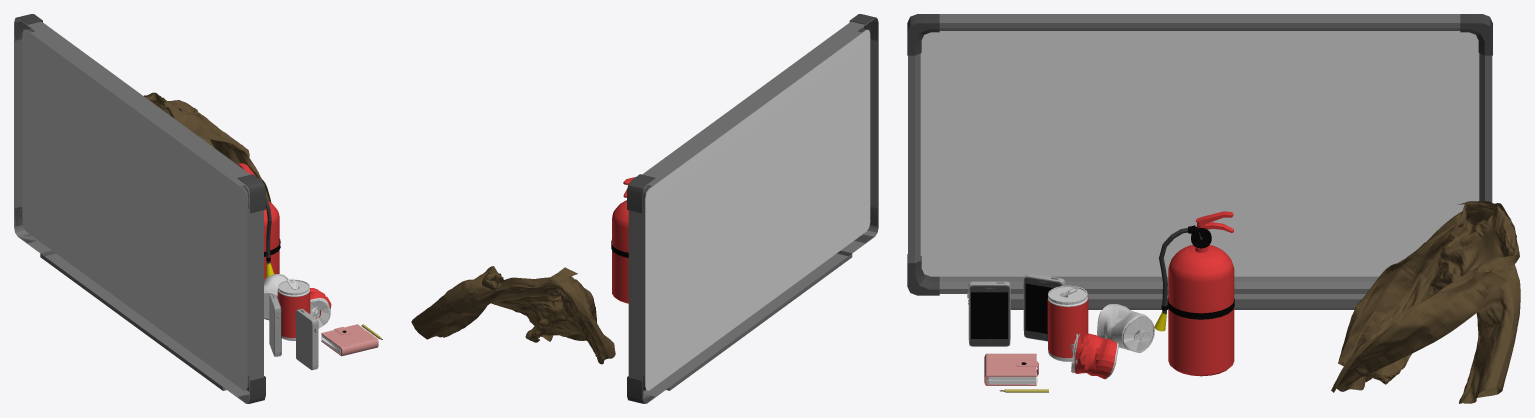
3 views of the same model, side by side, from view 1: azimuth 30°, elevation 25°; view 2: azimuth 150°, elevation 25°; view 3: azimuth 270°, elevation 25° (orthographic). The views are drawn at different scales.
Parts seen in each view (by area): view 1: BOARD, cloth1, polySurface35, polySurface25, polySurface17, polySurface38, phone, polySurface39, polySurface37, polySurface40; view 2: BOARD, cloth1, polySurface17; view 3: BOARD, cloth1, polySurface17, polySurface25, polySurface39, polySurface38, phone, polySurface35, polySurface44, polySurface37.
Part boxes in pixels (x1,y1,x2,y2): BOARD: (14,14,265,403); cloth1: (144,92,271,202); polySurface35: (321,324,378,356); polySurface25: (295,308,318,370); polySurface17: (238,163,280,279); polySurface38: (277,289,310,338); phone: (269,294,281,356); polySurface39: (264,274,288,320); polySurface37: (278,279,309,340); polySurface40: (310,298,330,328); BOARD: (627,14,878,403); cloth1: (411,266,615,364); polySurface17: (611,177,635,303); BOARD: (907,14,1492,309); cloth1: (1331,201,1520,403); polySurface17: (1154,211,1234,376); polySurface25: (967,281,1010,346); polySurface39: (1097,304,1154,352); polySurface38: (1047,298,1088,358); phone: (1023,273,1065,341); polySurface35: (984,353,1038,385); polySurface44: (1075,333,1116,378); polySurface37: (1048,285,1087,361).
Bounding box in the file's own units: 85.1 × 79.65 × 157.
